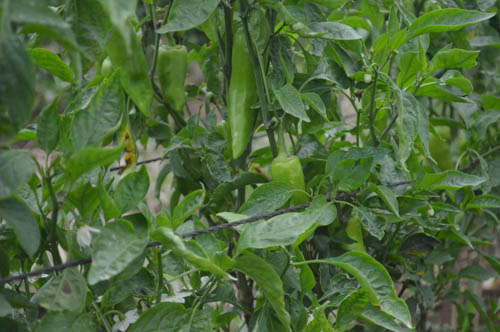ChiliPepper: (229, 28, 263, 159), (107, 26, 154, 112), (156, 47, 189, 113), (271, 157, 306, 218)
